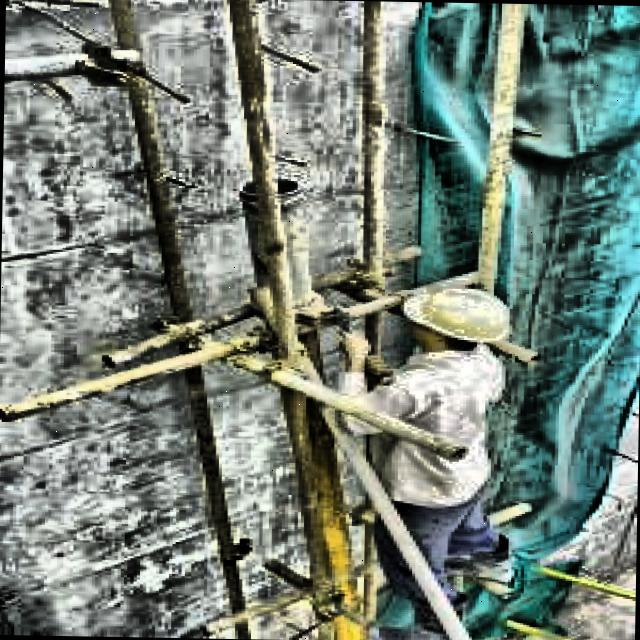helmet: (380, 272, 529, 373)
